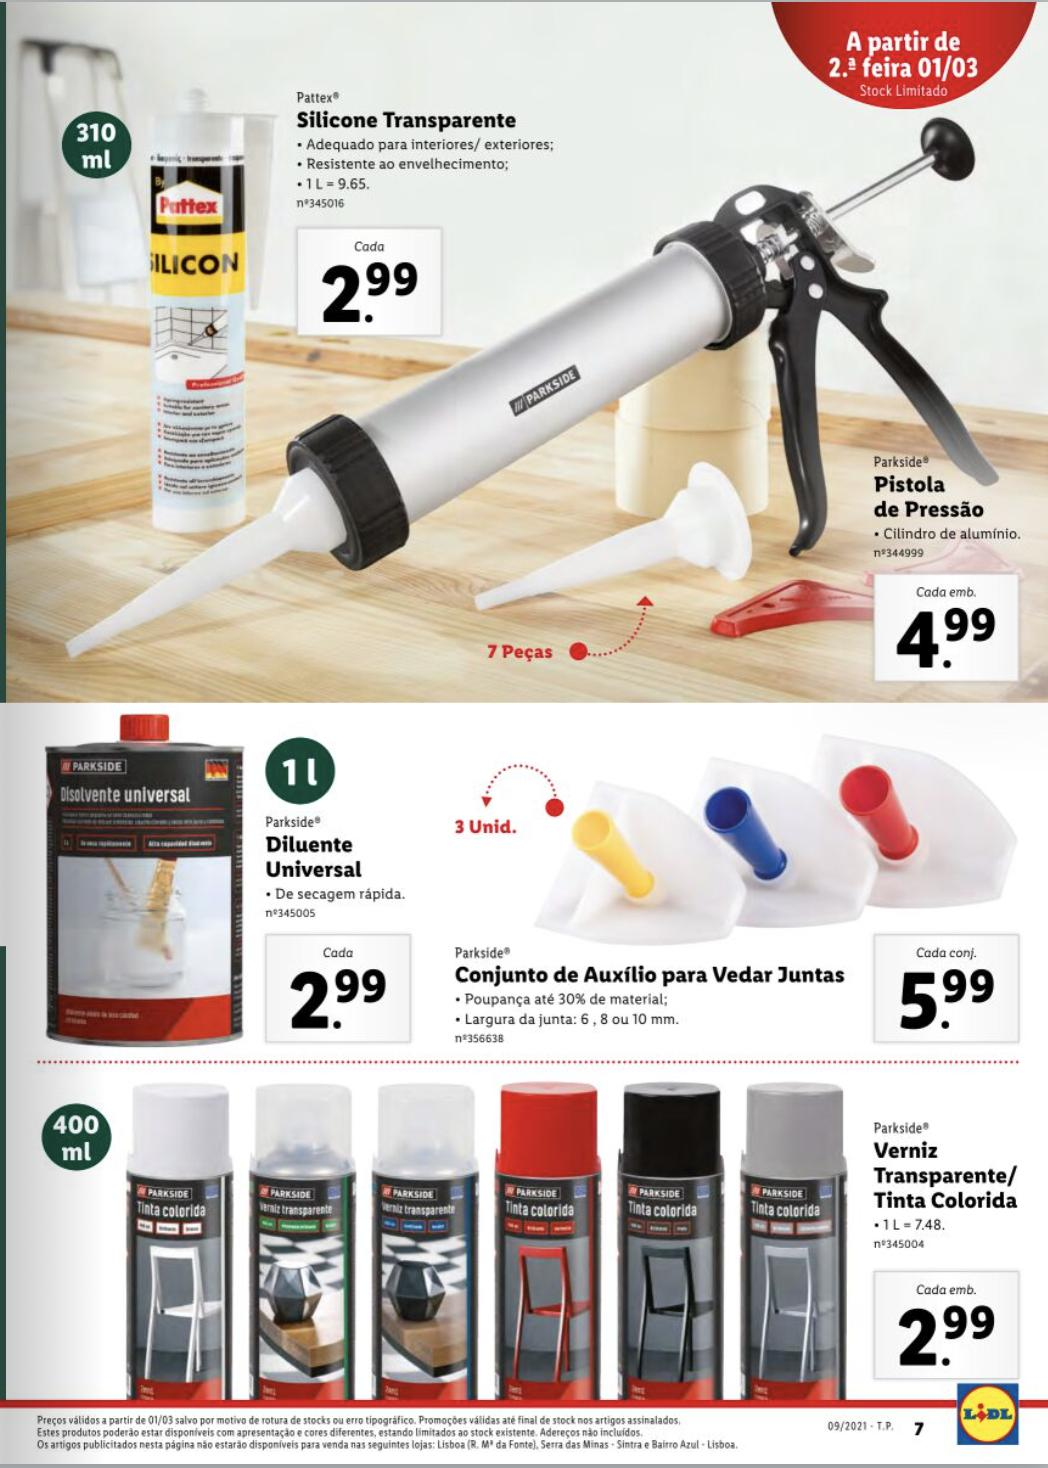name: (451, 960, 856, 991), (867, 1137, 1029, 1211), (289, 104, 519, 142), (257, 829, 369, 884), (867, 470, 989, 520)
price: (889, 602, 1001, 674), (893, 1300, 1000, 1375), (280, 964, 389, 1035), (894, 964, 1000, 1035), (318, 257, 420, 328)
product: (29, 1068, 1042, 1393), (544, 91, 1040, 697), (54, 49, 576, 553), (434, 718, 1025, 1053), (5, 715, 431, 1053)
